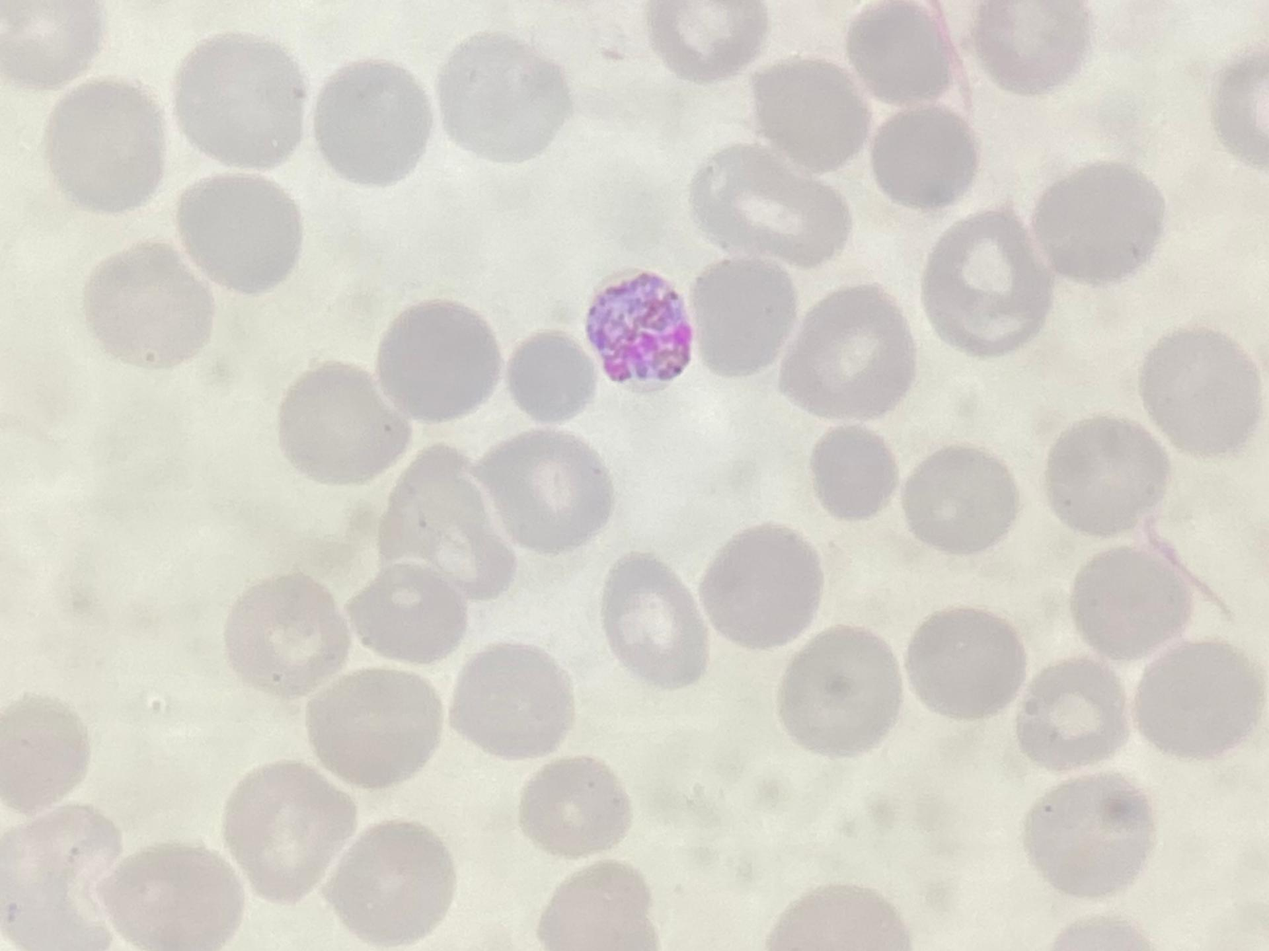Infected: (587, 268, 697, 395)
Uninfected: (378, 446, 523, 600), (689, 143, 853, 271), (779, 283, 917, 420), (921, 213, 1052, 354), (1, 804, 126, 950), (221, 763, 352, 902), (173, 35, 308, 169), (435, 34, 569, 164), (479, 426, 613, 551), (44, 78, 169, 211), (305, 666, 440, 789), (777, 626, 903, 757), (323, 821, 456, 944), (221, 572, 350, 698), (83, 243, 213, 368), (1024, 772, 1153, 897), (1132, 638, 1262, 761), (1033, 162, 1166, 282), (275, 363, 408, 483), (698, 525, 823, 651), (1136, 324, 1259, 452), (375, 300, 502, 423), (176, 173, 305, 293), (599, 551, 711, 686), (311, 60, 432, 183), (100, 844, 243, 948), (449, 642, 574, 759), (1046, 416, 1167, 533), (1068, 546, 1188, 662), (346, 560, 476, 667), (905, 606, 1026, 720), (748, 57, 869, 170), (686, 257, 798, 378), (901, 443, 1019, 554), (963, 0, 1096, 97), (1015, 656, 1128, 768), (516, 754, 632, 859), (868, 106, 978, 209), (848, 0, 957, 102), (0, 697, 90, 811), (536, 864, 655, 949), (648, 1, 764, 81), (808, 423, 901, 520), (0, 1, 96, 87), (506, 330, 596, 421)
